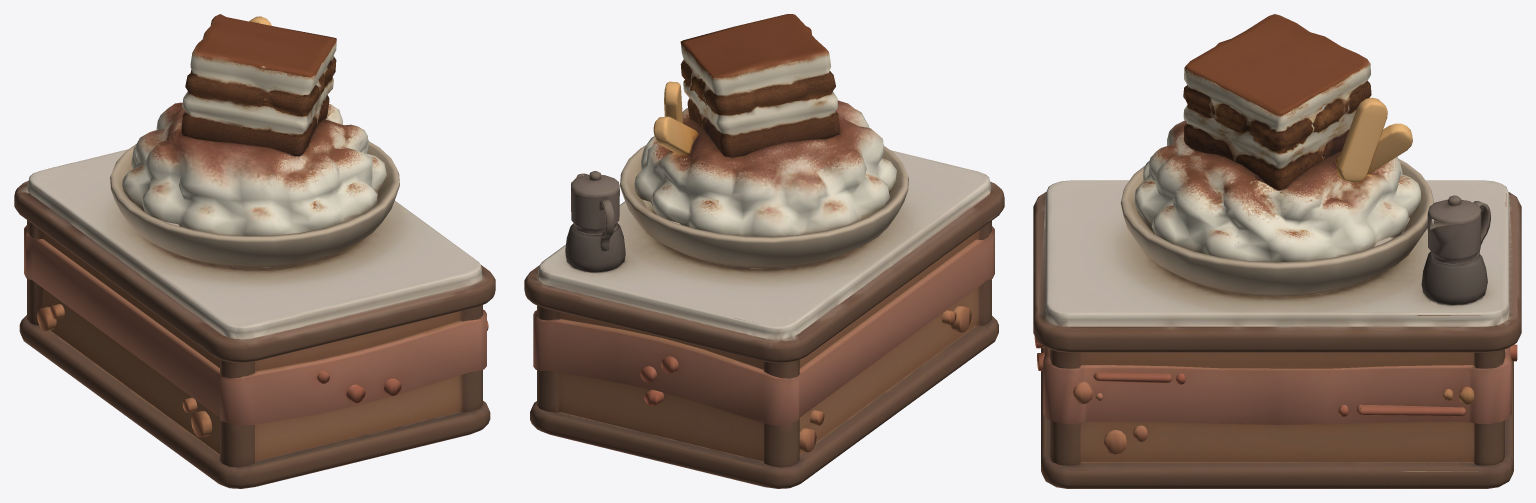
Rendered from IT_사물_s4_mascarpone_station.glb.
3 renders of one model, left to right at view 1: azimuth 30°, elevation 25°; view 2: azimuth 150°, elevation 25°; view 3: azimuth 270°, elevation 25°, orthographic. The views are drawn at different scales.
Parts seen in each view (by area): view 1: tripo_node_4323e2fa-36c0-46d4-b23c-e07990918d50; view 2: tripo_node_4323e2fa-36c0-46d4-b23c-e07990918d50; view 3: tripo_node_4323e2fa-36c0-46d4-b23c-e07990918d50.
Part boxes in pixels (box(x1,y1,x2,y2)): tripo_node_4323e2fa-36c0-46d4-b23c-e07990918d50: box(14, 14, 495, 488); tripo_node_4323e2fa-36c0-46d4-b23c-e07990918d50: box(524, 14, 1004, 488); tripo_node_4323e2fa-36c0-46d4-b23c-e07990918d50: box(1033, 14, 1521, 488).
Bounding box in the file's own units: 0.7173 × 0.8452 × 0.9995.
1 material, 1 textured.
